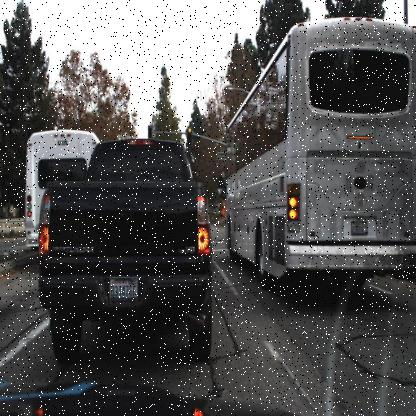car: (42, 140, 209, 351)
trafficLight: (148, 122, 153, 140), (187, 127, 192, 144)
trafficLight-Red: (186, 124, 193, 143)
truck: (223, 19, 416, 292)
